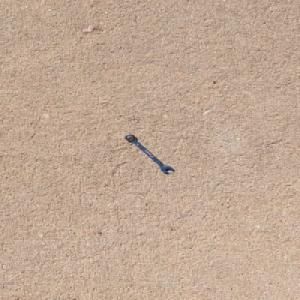Wrench: (123, 133, 174, 173)
